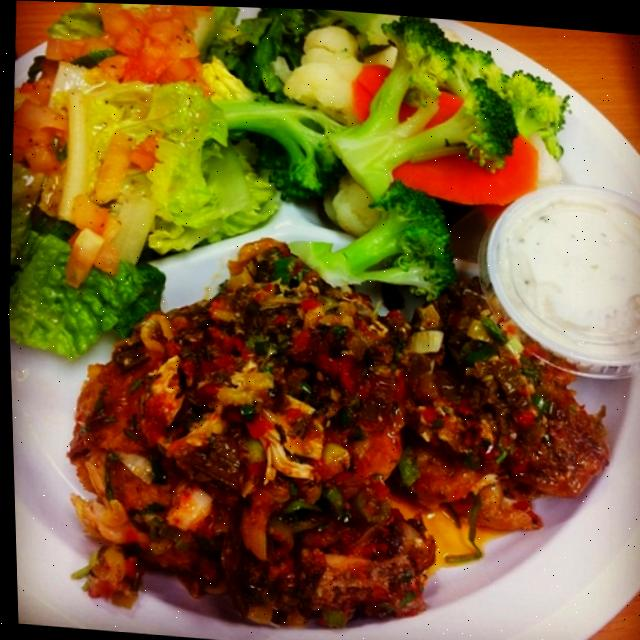鸡肉料理 含炸鸡: (12, 14, 640, 640)
